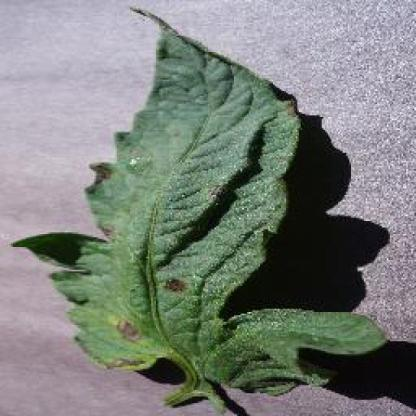Tomato_Blight: (19, 8, 383, 377)
